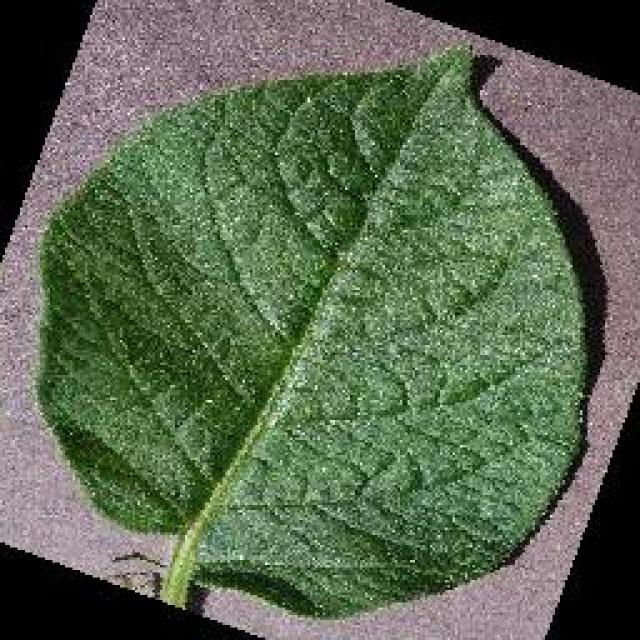Potato___healthy: (28, 40, 594, 624)
